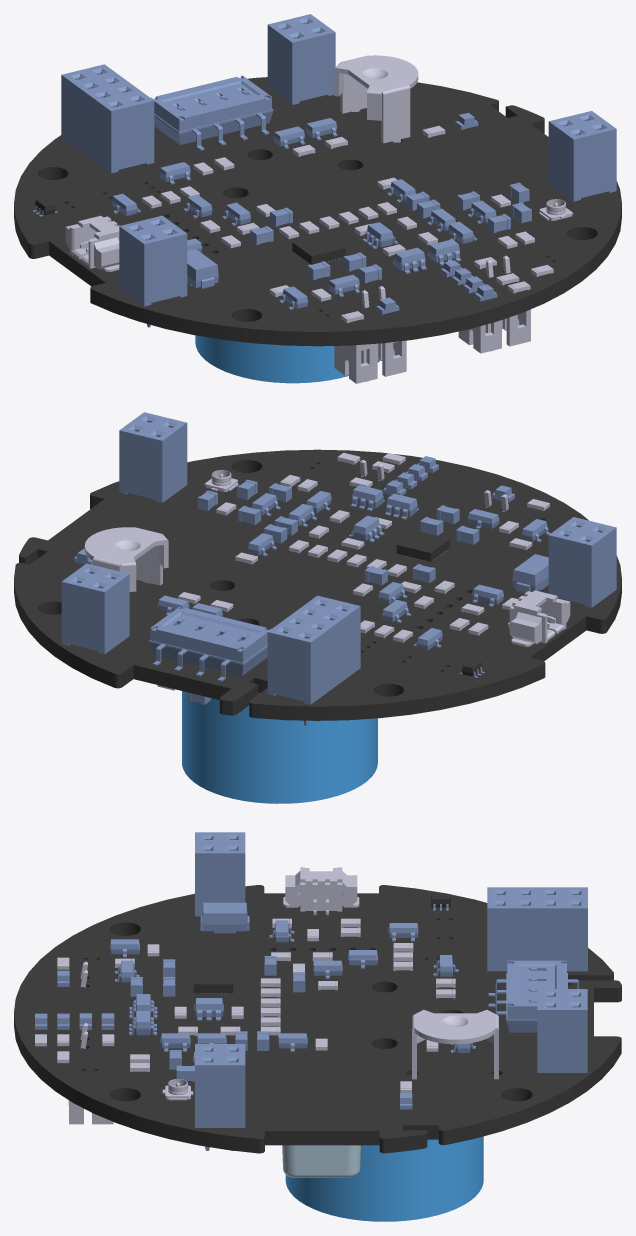
File: cansat 3.0 Power_Unit.glb
3 views of the same model, one above another, from view 1: azimuth 30°, elevation 25°; view 2: azimuth 150°, elevation 25°; view 3: azimuth 270°, elevation 25° (orthographic).
Parts seen in each view (by area): view 1: Solid1 (×19); view 2: Solid1 (×14); view 3: Solid1 (×16).
Boxes of the visible parts, x1=… form: Solid1 (×19): x1=14, y1=14, x2=621, y2=383; Solid1 (×14): x1=14, y1=412, x2=621, y2=803; Solid1 (×16): x1=14, y1=832, x2=621, y2=1221.
Bounding box in the file's own units: 0.0607 × 0.0254 × 0.0613.
